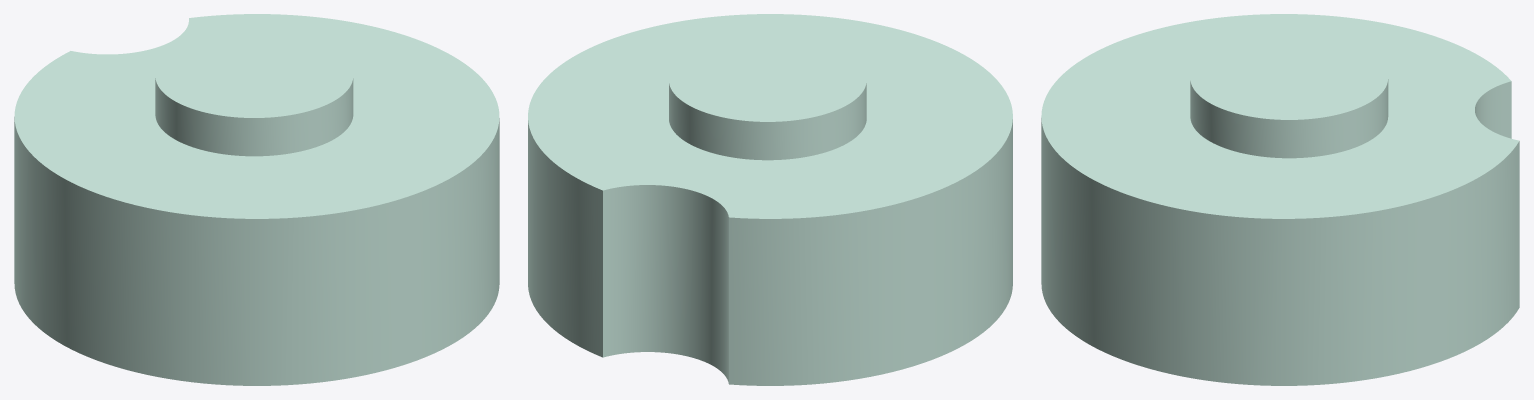
The picture shows the model from 3 angles, left to right: view 1: azimuth 30°, elevation 25°; view 2: azimuth 150°, elevation 25°; view 3: azimuth 270°, elevation 25°; orthographic projection.
Parts seen in each view (by area): view 1: Renderer Node; view 2: Renderer Node; view 3: Renderer Node.
Boxes of the visible parts, bbox=[...] form: Renderer Node: bbox=[14, 14, 499, 385]; Renderer Node: bbox=[528, 14, 1012, 385]; Renderer Node: bbox=[1041, 14, 1519, 385].
Size of the model in its own units: 0.9867 by 0.4922 by 0.9728.
